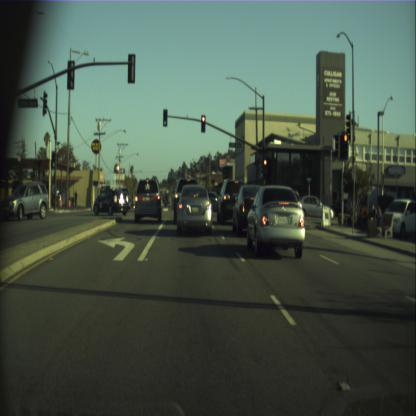GreenLeft: (163, 108, 167, 126), (51, 150, 55, 168)
Red: (342, 132, 348, 160), (262, 157, 268, 174), (201, 115, 205, 132)
